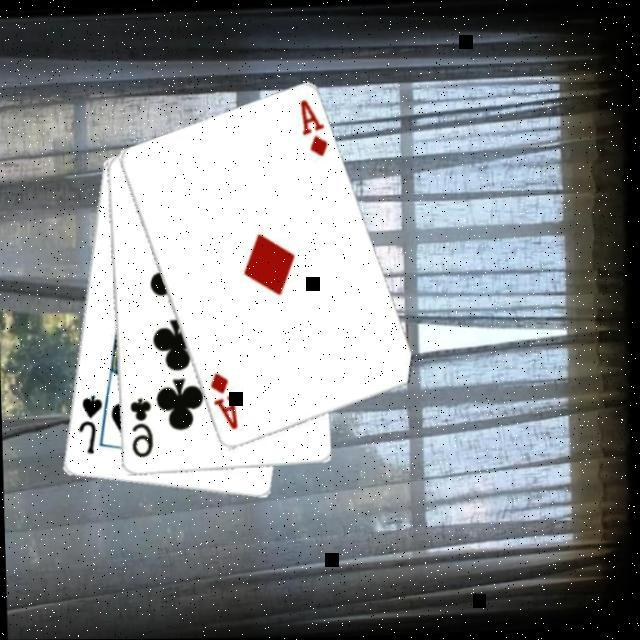9C: (126, 395, 156, 462)
AD: (297, 98, 331, 162), (207, 372, 242, 434)
JS: (75, 393, 107, 459)
